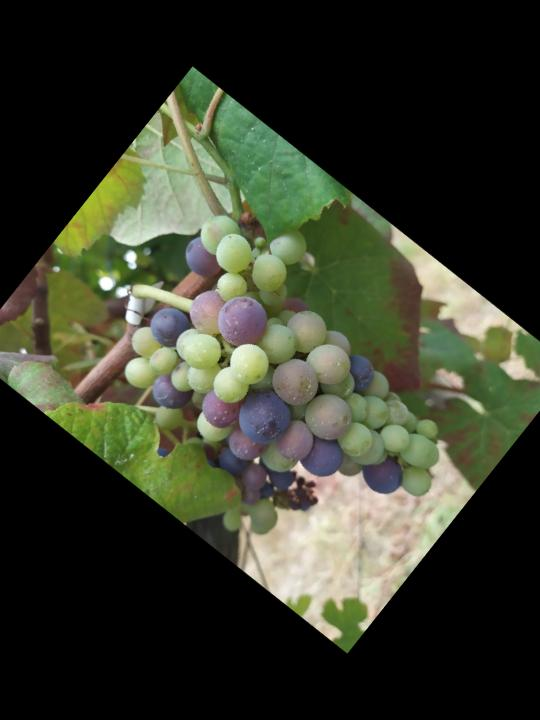grape: (96, 179, 507, 572)
